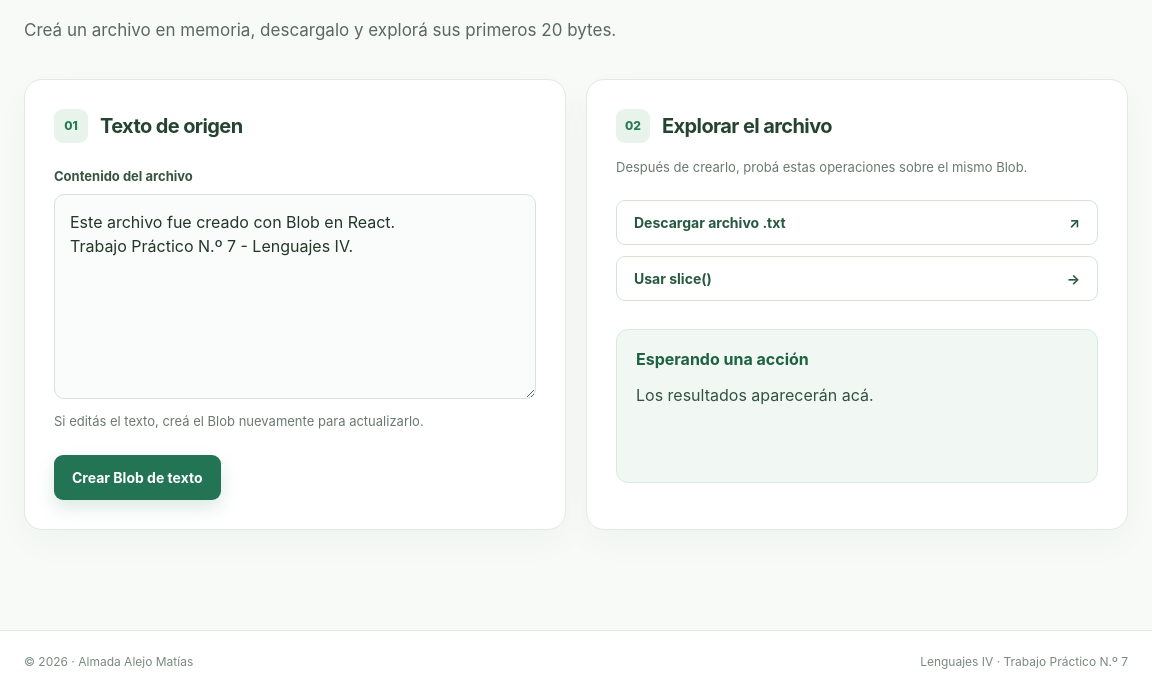
Scenario: slice() muestra los primeros 20 bytes
This screenshot has width=1152, height=692.
(page scrolled)
Click the button "Crear Blob de texto" at (137,477), box [54, 455, 220, 500]
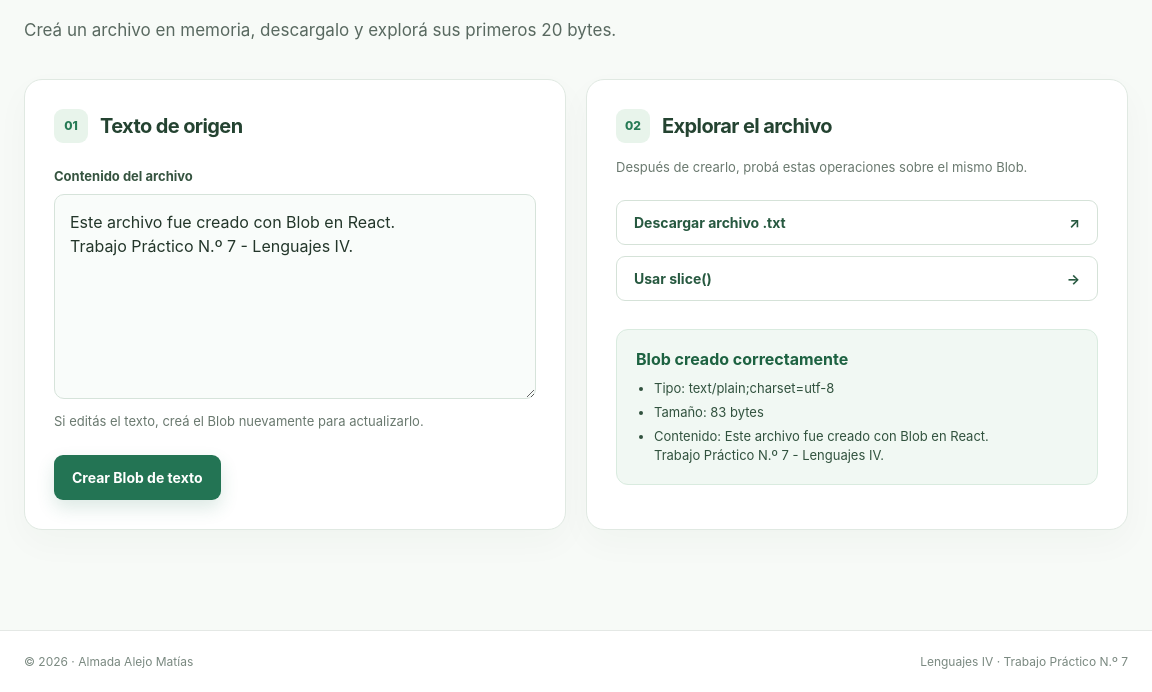
Click the button "Usar slice() →" at (673,279), box [616, 256, 1098, 301]
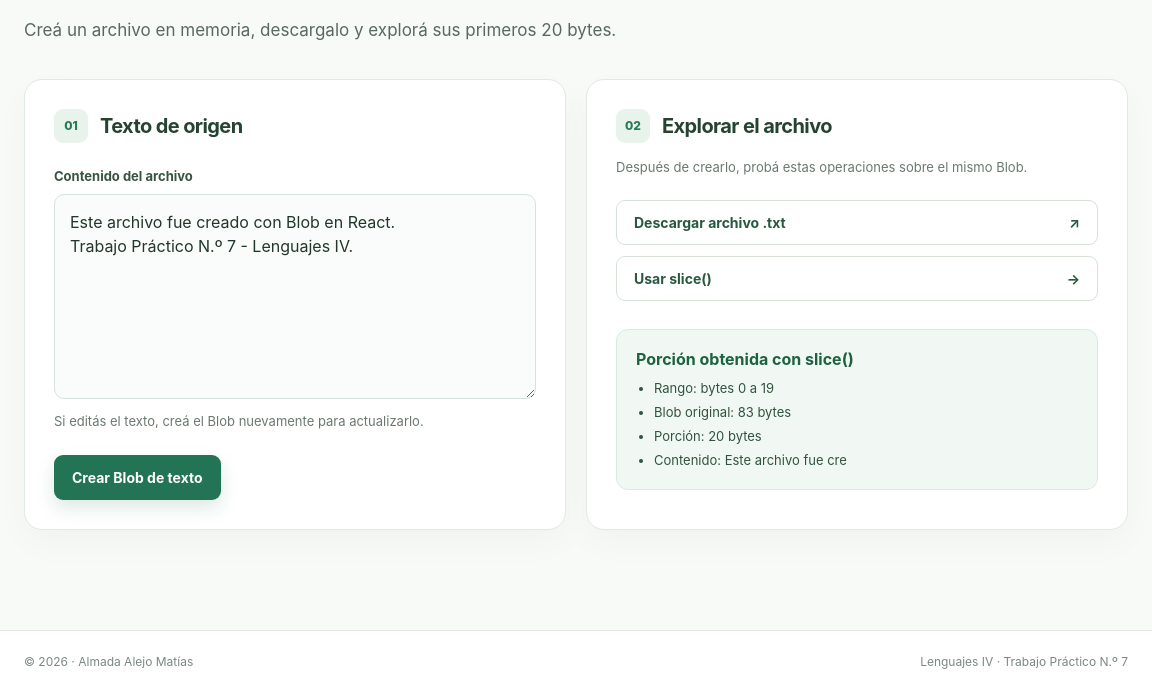
Now the list item "Contenido: Este archivo fue cre" is shown, box [654, 452, 847, 468]
Now the text "Porción obtenida con slice()" is shown, box [636, 349, 854, 369]
Now the list item "Porción: 20 bytes" is shown, box [654, 428, 762, 444]
